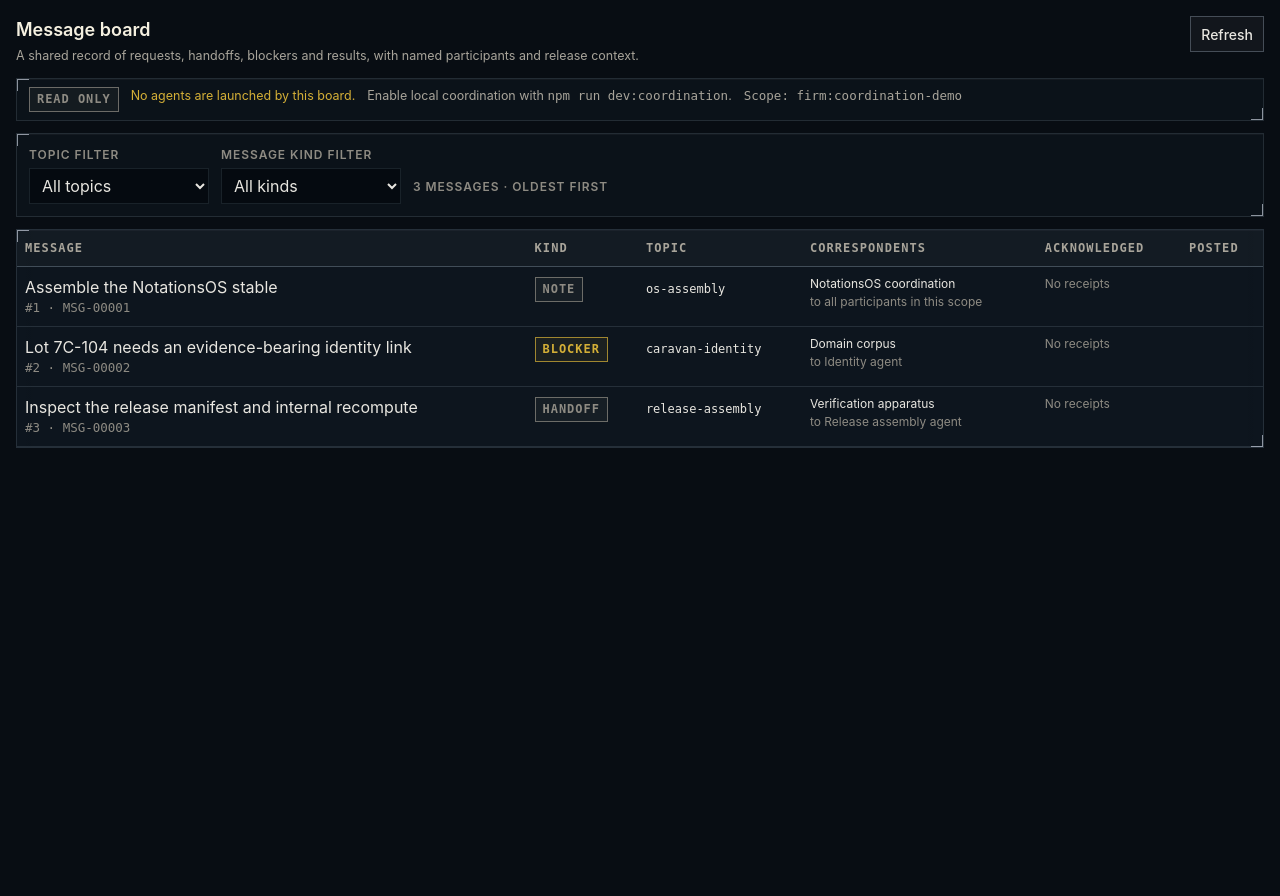
it: CoordinationWorkspace › filters board messages and keeps fixture mode read only
expect the text "npm run dev:coordination" is shown: met, box [548,88,728,103]
Select "BLOCKER" in the dropdown labelled "Message kind filter" at coordinates (311, 186), box [221,168,401,204]
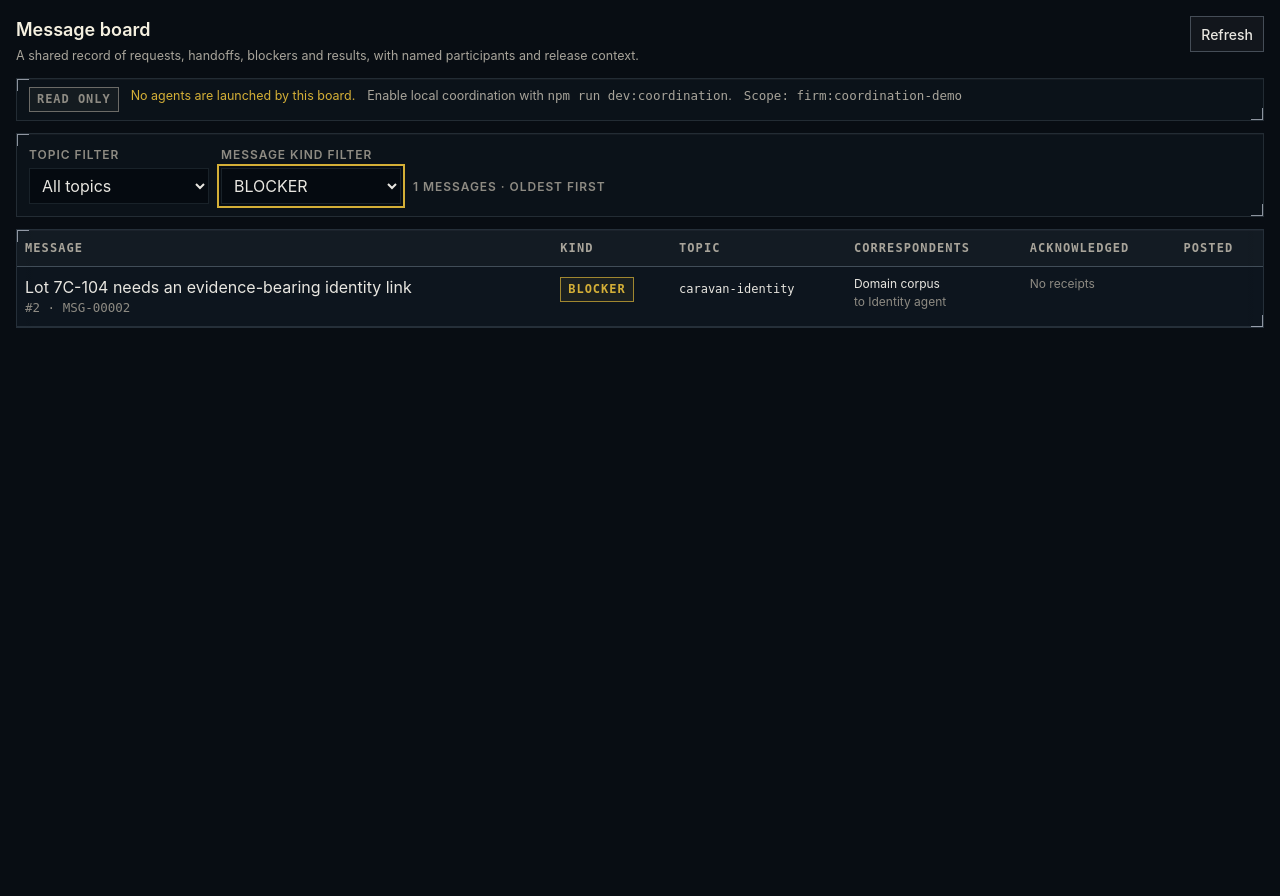
The release a message was written about is a different object, so it is a link.
Click the 2nd button at coordinates (285, 296), box [25,275,544,318]
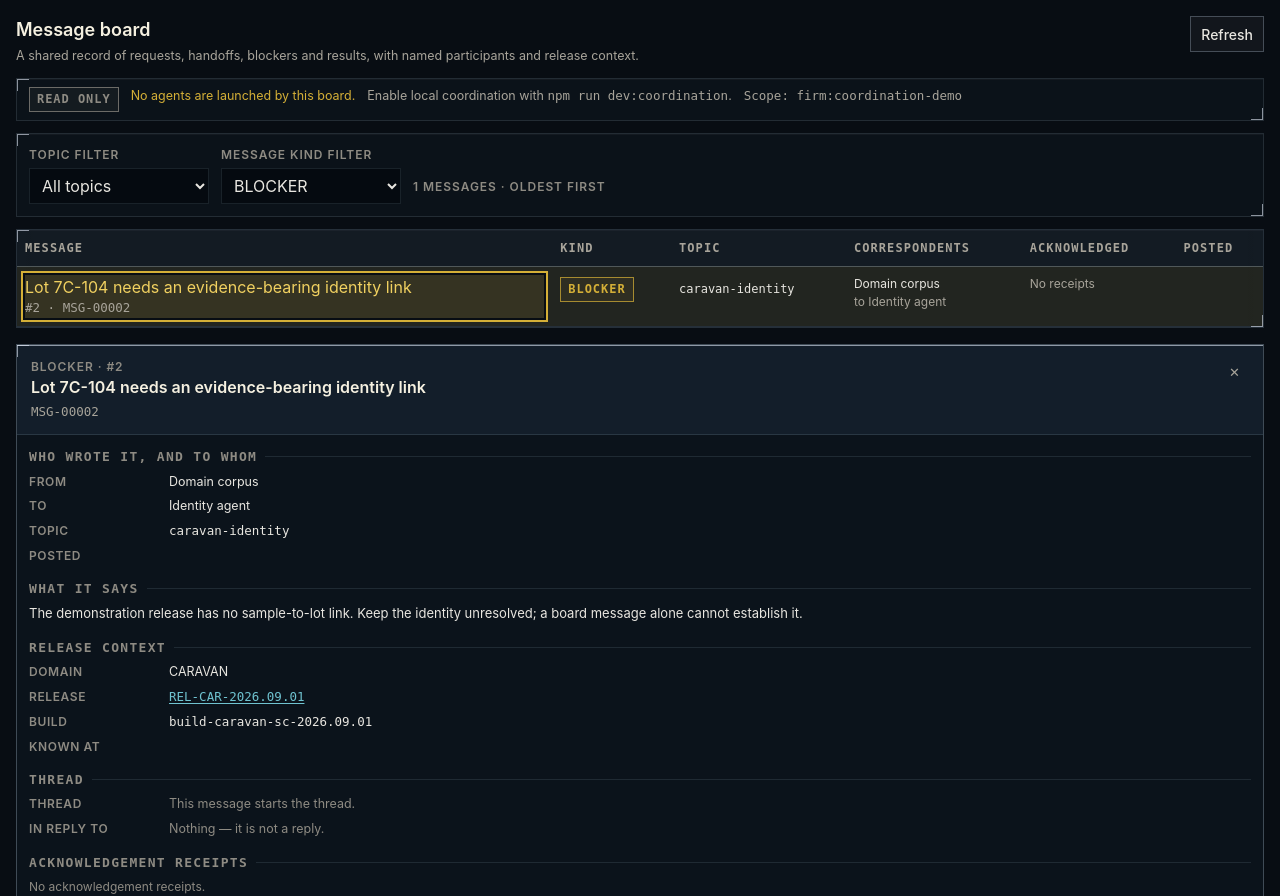
Select "release-assembly" in the dropdown labelled "Topic filter" at coordinates (119, 186), box [29,168,209,204]
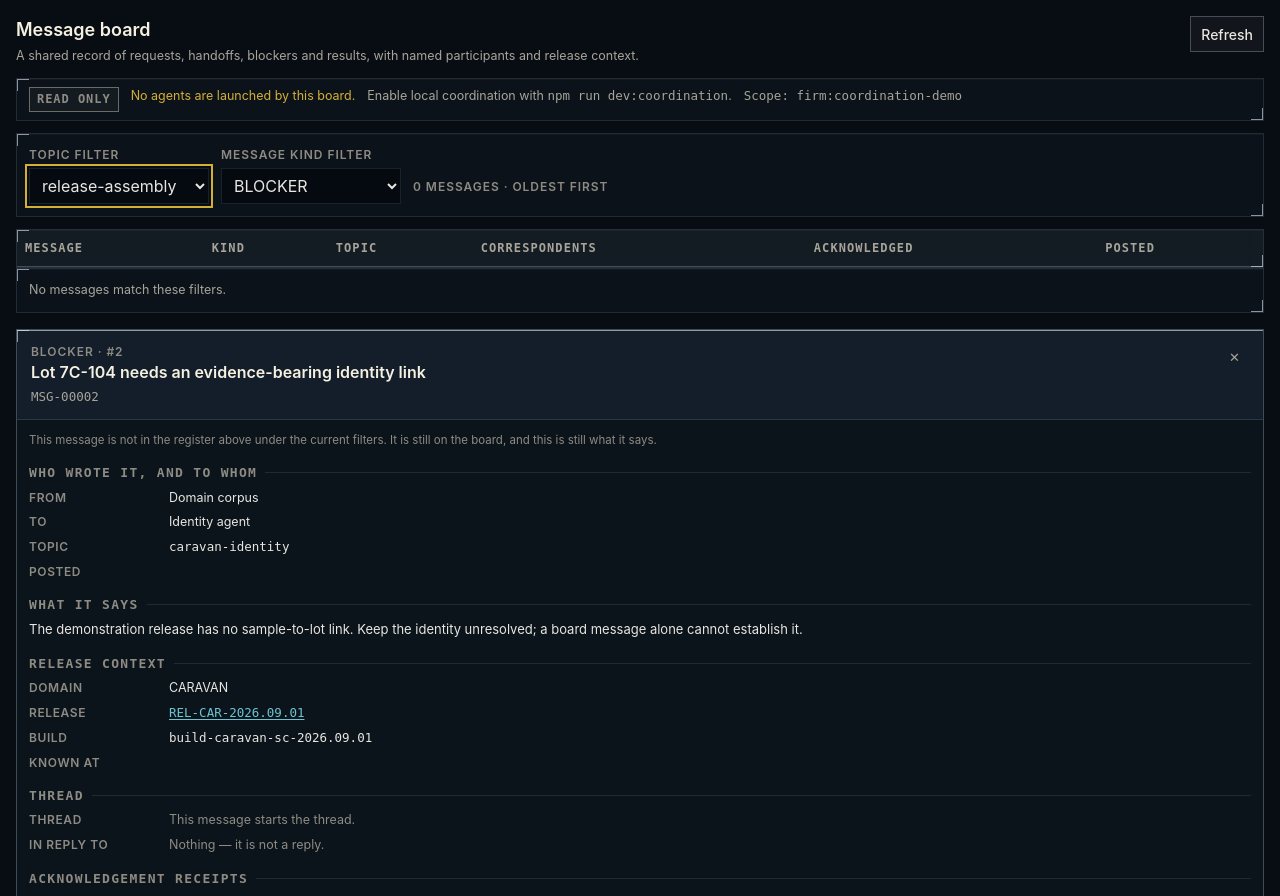
expect the text "No messages match these filters." is shown: met, box [16,268,1264,313]
